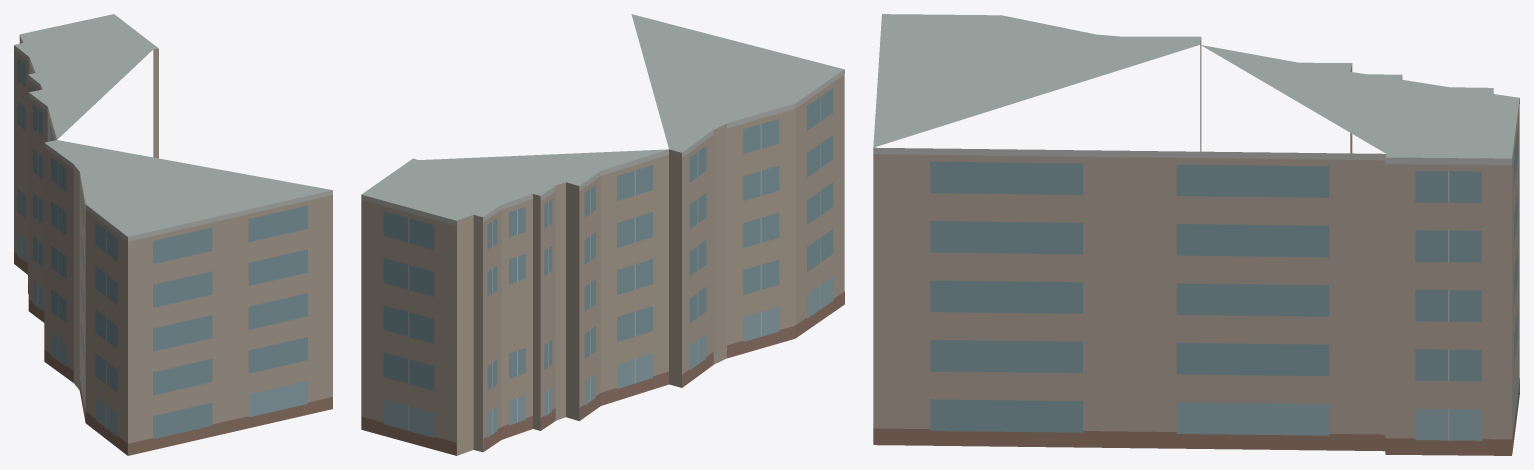
File: survey-upis-33022735.glb
3 views of the same model, side by side, from view 1: azimuth 30°, elevation 25°; view 2: azimuth 150°, elevation 25°; view 3: azimuth 270°, elevation 25° (orthographic). The views are drawn at different scales.
Parts seen in each view (by area): view 1: survey-upis-33022735.tmp; view 2: survey-upis-33022735.tmp; view 3: survey-upis-33022735.tmp.
Boxes of the visible parts, box(x1,y1,x2,y2) form: survey-upis-33022735.tmp: box(14, 14, 332, 455); survey-upis-33022735.tmp: box(361, 14, 844, 455); survey-upis-33022735.tmp: box(873, 14, 1519, 455).
Bounding box in the file's own units: 11.7 × 11.2 × 22.08.
